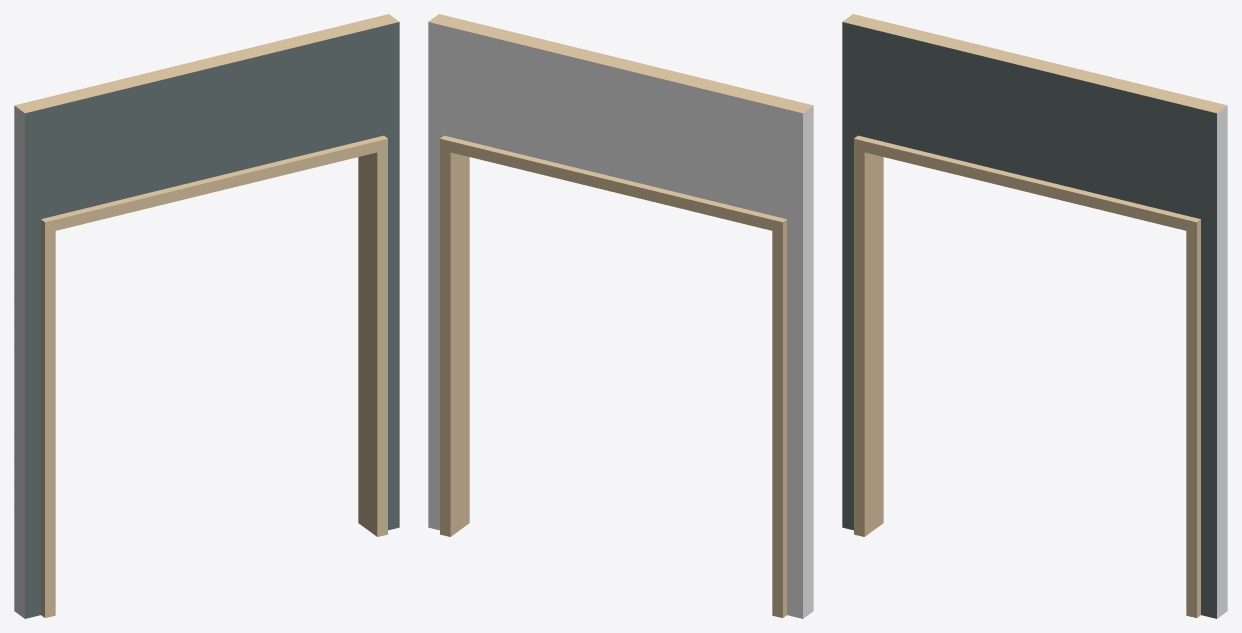
The model's file is wallDoorwayWide.glb.
The picture shows the model from 3 angles, left to right: view 1: azimuth 30°, elevation 25°; view 2: azimuth 150°, elevation 25°; view 3: azimuth 330°, elevation 25°; orthographic projection.
Parts seen in each view (by area): view 1: wallDoorwayWide; view 2: wallDoorwayWide; view 3: wallDoorwayWide.
Part boxes in pixels (x1=…): wallDoorwayWide: x1=14, y1=14, x2=399, y2=618; wallDoorwayWide: x1=428, y1=14, x2=813, y2=618; wallDoorwayWide: x1=842, y1=14, x2=1227, y2=618.
Size of the model in its own units: 10 by 12.9 by 0.891.
